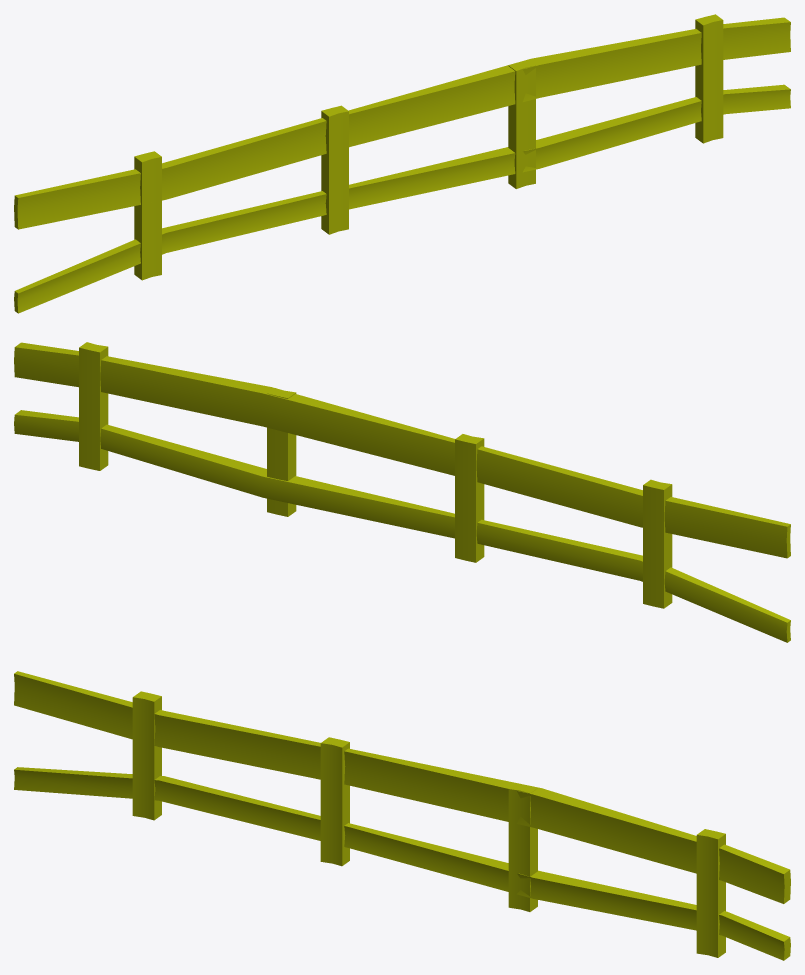
File: barrière.fbx
3 renders of one model, top to bottom at view 1: azimuth 30°, elevation 25°; view 2: azimuth 150°, elevation 25°; view 3: azimuth 330°, elevation 25°, orthographic.
Parts seen in each view (by area): view 1: Planche1_low, piquet_low; view 2: Planche1_low, piquet_low; view 3: Planche1_low, piquet_low.
Part boxes in pixels (x1,y1,x2,y2): Planche1_low: (14,17,790,313); piquet_low: (134,14,723,280); Planche1_low: (14,342,790,642); piquet_low: (79,342,672,608); Planche1_low: (14,671,790,960); piquet_low: (132,691,725,957).
Bounding box in the file's own units: 428 × 65.75 × 10.16.
